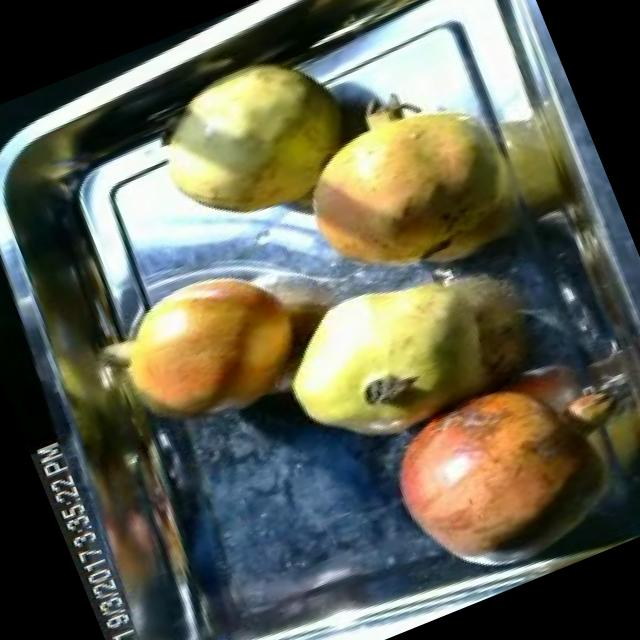fruit: (354, 330, 640, 588), (262, 56, 540, 312), (248, 244, 518, 482), (124, 30, 376, 256), (83, 246, 329, 460)
